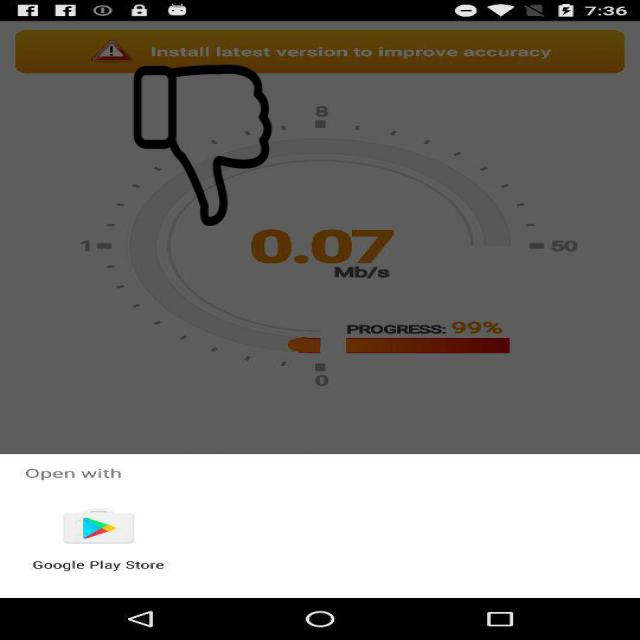obstruction: (132, 65, 274, 226)
